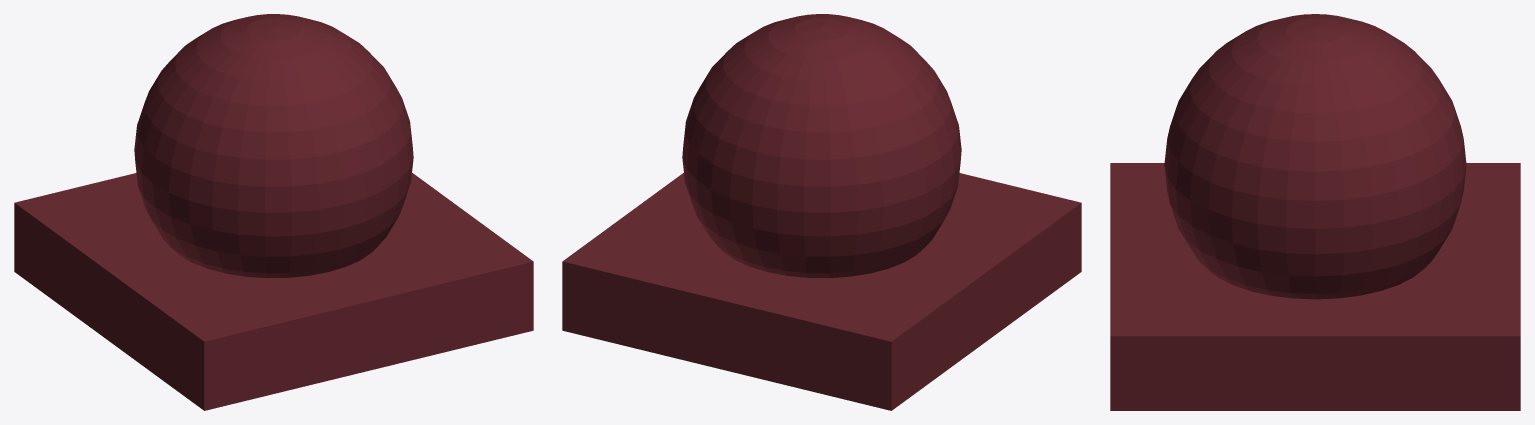
File: player.fbx
The picture shows the model from 3 angles, left to right: view 1: azimuth 30°, elevation 25°; view 2: azimuth 150°, elevation 25°; view 3: azimuth 270°, elevation 25°; orthographic projection. The views are drawn at different scales.
Visible parts, largest first — view 1: Cube; view 2: Cube; view 3: Cube.
Boxes of the visible parts, <box> form: Cube: <box>14,14,533,410</box>; Cube: <box>562,14,1081,410</box>; Cube: <box>1110,14,1520,410</box>.
Size of the model in its own units: 157 by 125 by 157.
